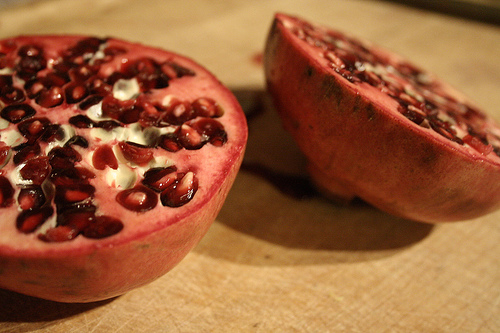pomogranate: (0, 30, 248, 303), (260, 12, 499, 223)
